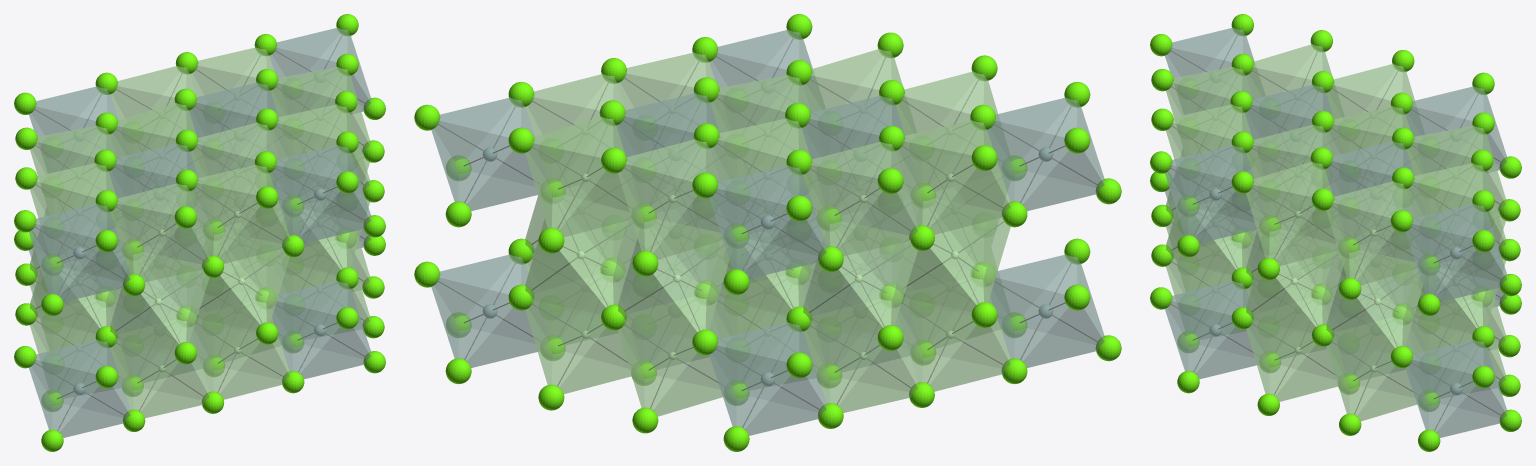
The model's file is Li3YCl6.fbx.
3 renders of one model, left to right at view 1: azimuth 30°, elevation 25°; view 2: azimuth 150°, elevation 25°; view 3: azimuth 270°, elevation 25°, orthographic. The views are drawn at different scales.
Visible parts, largest first — view 1: Shape_IndexedFaceSet.106, Shape_IndexedFaceSet.208, Shape_IndexedFaceSet.098, Shape_IndexedFaceSet.224, Shape_IndexedFaceSet.274, Shape_IndexedFaceSet.282, Shape_IndexedFaceSet.250, Shape_IndexedFaceSet.242, Shape_IndexedFaceSet.130, Shape_IndexedFaceSet.138, Shape_IndexedFaceSet.141, Shape_IndexedFaceSet.109 (+171 smaller); view 2: Shape_IndexedFaceSet.238, Shape_IndexedFaceSet.119, Shape_IndexedFaceSet.127, Shape_IndexedFaceSet.063, Shape_IndexedFaceSet.190, Shape_IndexedFaceSet.159, Shape_IndexedFaceSet.151, Shape_IndexedFaceSet.055, Shape_IndexedFaceSet.222, Shape_IndexedFaceSet.206, Shape_IndexedFaceSet.303, Shape_IndexedFaceSet.295 (+132 smaller); view 3: Shape_IndexedFaceSet.196, Shape_IndexedFaceSet.041, Shape_IndexedFaceSet.033, Shape_IndexedFaceSet.065, Shape_IndexedFaceSet.073, Shape_IndexedFaceSet.180, Shape_IndexedFaceSet.257, Shape_IndexedFaceSet.249, Shape_IndexedFaceSet.265, Shape_IndexedFaceSet.241, Shape_IndexedFaceSet.270, Shape_IndexedFaceSet.262 (+172 smaller).
Boxes of the visible parts, x1,y1,x2,y2 form: Shape_IndexedFaceSet.106: (190,183,259,257); Shape_IndexedFaceSet.208: (220,249,289,324); Shape_IndexedFaceSet.098: (192,319,259,393); Shape_IndexedFaceSet.224: (141,269,209,344); Shape_IndexedFaceSet.274: (29,359,99,432); Shape_IndexedFaceSet.282: (29,224,98,296); Shape_IndexedFaceSet.250: (269,165,339,237); Shape_IndexedFaceSet.242: (272,301,339,373); Shape_IndexedFaceSet.130: (110,339,178,411); Shape_IndexedFaceSet.138: (110,203,178,276); Shape_IndexedFaceSet.141: (140,190,208,263); Shape_IndexedFaceSet.109: (221,172,288,243); Shape_IndexedFaceSet.238: (653,240,729,332); Shape_IndexedFaceSet.119: (525,300,605,387); Shape_IndexedFaceSet.127: (525,143,605,230); Shape_IndexedFaceSet.063: (896,141,976,228); Shape_IndexedFaceSet.190: (930,217,1010,304); Shape_IndexedFaceSet.159: (618,164,696,253); Shape_IndexedFaceSet.151: (618,320,696,410); Shape_IndexedFaceSet.055: (898,298,976,384); Shape_IndexedFaceSet.222: (560,219,637,307); Shape_IndexedFaceSet.206: (839,241,917,327); Shape_IndexedFaceSet.303: (709,188,790,272); Shape_IndexedFaceSet.295: (709,345,790,429); Shape_IndexedFaceSet.196: (1357,269,1422,348); Shape_IndexedFaceSet.041: (1246,184,1315,260); Shape_IndexedFaceSet.033: (1246,320,1315,396); Shape_IndexedFaceSet.065: (1326,338,1394,415); Shape_IndexedFaceSet.073: (1326,202,1394,280); Shape_IndexedFaceSet.180: (1276,251,1343,326); Shape_IndexedFaceSet.257: (1405,359,1475,432); Shape_IndexedFaceSet.249: (1165,165,1234,237); Shape_IndexedFaceSet.265: (1405,224,1475,296); Shape_IndexedFaceSet.241: (1165,301,1235,373); Shape_IndexedFaceSet.270: (1436,210,1506,281); Shape_IndexedFaceSet.262: (1436,346,1506,417).
Bounding box in the file's own units: 2152 × 1013 × 1500.
